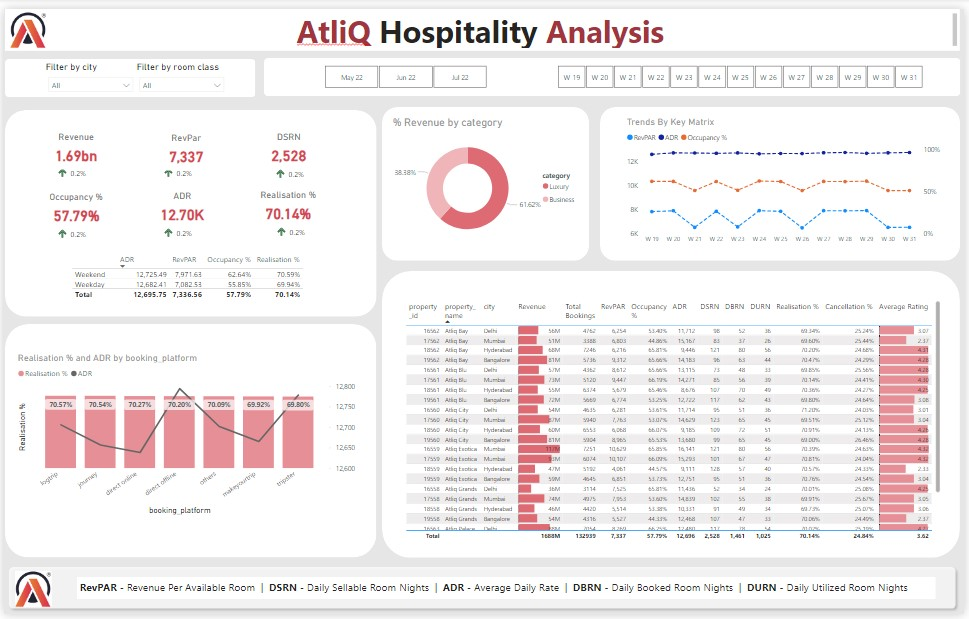

This screenshot's page, from the dashboard's own definition file:
{"tool":"powerbi","page":{"name":"Page 1","canvas":[1745,1100],"ordinal":0},"visuals":[{"type":"textbox","box":[1.8,0,1736.4,76.4],"z":0},{"type":"shape","box":[1084.4,178.1,654.7,279.7],"z":1000},{"type":"shape","box":[687.5,178.1,376.6,279.7],"z":2000},{"type":"shape","box":[688,476,1050.8,521.5],"z":3000},{"type":"shape","box":[1.7,572.3,675.5,424.5],"z":4000},{"type":"shape","box":[1.8,184.5,675.7,375.7],"z":5000},{"type":"shape","box":[472.6,88.3,1266.2,69.2],"z":6000},{"type":"shape","box":[1.8,91.4,455.4,69.2],"z":7000},{"type":"tableEx","fields":{"Values":["key_measures.Revenue WoW change %"]},"box":[87.6,368.7,88.6,67.1],"z":8000},{"type":"tableEx","fields":{"Values":["key_measures.Revenue WoW change %"]},"box":[484.7,365.9,85.7,67.1],"z":9000},{"type":"tableEx","fields":{"Values":["key_measures.Revenue WoW change %"]},"box":[280.4,367.3,87.1,64.3],"z":10000},{"type":"tableEx","fields":{"Values":["dim_hotels.property_id","dim_hotels.property_name","dim_hotels.city","key_measures.Revenue","key_measures.Total Bookings","key_measures.RevPAR","key_measures.Occupancy %","key_measures.ADR","key_measures.DSRN","key_measures.DBRN","key_measures.DURN","key_measures.Realisation %"]},"box":[724.9,525.2,981.5,444.6],"z":11000},{"type":"slicer","title":"Filter by city","fields":{"Values":["dim_hotels.city"]},"box":[70.4,93.7,174.3,64.3],"z":12000},{"type":"slicer","title":"Filter by room class","fields":{"Values":["dim_rooms.room_class"]},"box":[236.1,93.7,174.3,64.3],"z":13000},{"type":"slicer","fields":{"Values":["dim_date.mmm yy"]},"box":[558.8,96,343.1,53.8],"z":14000},{"type":"slicer","fields":{"Values":["dim_date.week no"]},"box":[981.8,96,712.3,53.8],"z":15000},{"type":"tableEx","fields":{"Values":["key_measures.Revenue WoW change %"]},"box":[87.6,258.4,87.8,65.6],"z":16000},{"type":"donutChart","title":"% Revenue by category","fields":{"Category":["dim_hotels.category"],"Y":["key_measures.Revenue"]},"box":[701.6,195.3,350,240.6],"z":17000},{"type":"card","title":"Revenue","fields":{"Values":["key_measures.Revenue"]},"box":[53.2,221.7,156.7,70],"z":18000},{"type":"tableEx","fields":{"Values":["key_measures.Revenue WoW change %"]},"box":[280.4,258.7,87.1,65.7],"z":19000},{"type":"tableEx","fields":{"Values":["key_measures.Revenue WoW change %"]},"box":[483.3,260.2,87.1,65.7],"z":20000},{"type":"card","title":"RevPar","fields":{"Values":["key_measures.RevPAR"]},"box":[253.3,223,157.1,70],"z":21000},{"type":"card","title":"DSRN","fields":{"Values":["key_measures.DSRN"]},"box":[440.4,221.6,155.7,70],"z":22000},{"type":"lineChart","title":"Trends By Key Matrix","fields":{"Category":["dim_date.mmm yy.Variation.Date Hierarchy.Month","dim_date.week no"],"Y":["key_measures.RevPAR","key_measures.ADR"],"Y2":["key_measures.Occupancy %"]},"box":[1126.6,195.3,579.7,242.2],"z":23000},{"type":"lineStackedColumnComboChart","fields":{"Category":["fact_bookings.booking_platform"],"Y":["key_measures.Realisation %"],"Y2":["key_measures.ADR"]},"box":[20.4,624.5,622.9,301.4],"z":24000},{"type":"tableEx","fields":{"Values":["dim_date.day type","key_measures.ADR","key_measures.RevPAR","key_measures.Occupancy %","key_measures.Realisation %"]},"box":[117.6,441.6,438.6,107.1],"z":25000},{"type":"card","title":"Occupancy %","fields":{"Values":["key_measures.Occupancy %"]},"box":[53.3,330.2,157.1,70],"z":26000},{"type":"card","title":"Realisation %","fields":{"Values":["key_measures.Realisation %"]},"box":[437.6,327.3,157.1,70],"z":27000},{"type":"card","title":"ADR","fields":{"Values":["key_measures.ADR"]},"box":[244.7,328.7,157.1,70],"z":28000},{"type":"shape","box":[0,1006.2,1739.1,93.8],"z":29000},{"type":"image","box":[1.7,0,85.9,75.6],"z":30000},{"type":"image","box":[10.3,1015.8,85.9,75.6],"z":31000},{"type":"textbox","box":[132.3,1033,1560.6,39.5],"z":31001}]}

Visuals, with their boxes in screenshot pixels (x1, y1, x2, y2), scaled from the page's 1745x1100 canvas onto the 969x619 screenshot:
textbox: bbox=[1, 0, 965, 43]
shape: bbox=[602, 100, 966, 258]
shape: bbox=[382, 100, 591, 258]
shape: bbox=[382, 268, 966, 561]
shape: bbox=[1, 322, 376, 561]
shape: bbox=[1, 104, 376, 315]
shape: bbox=[262, 50, 966, 89]
shape: bbox=[1, 51, 254, 90]
tableEx - key_measures.Revenue WoW change %: bbox=[49, 207, 98, 245]
tableEx - key_measures.Revenue WoW change %: bbox=[269, 206, 317, 244]
tableEx - key_measures.Revenue WoW change %: bbox=[156, 207, 204, 243]
tableEx - dim_hotels.property_id x dim_hotels.property_name: bbox=[403, 296, 948, 546]
"Filter by city" slicer: bbox=[39, 53, 136, 89]
"Filter by room class" slicer: bbox=[131, 53, 228, 89]
slicer - dim_date.mmm yy: bbox=[310, 54, 501, 84]
slicer - dim_date.week no: bbox=[545, 54, 941, 84]
tableEx - key_measures.Revenue WoW change %: bbox=[49, 145, 97, 182]
"% Revenue by category" donutChart: bbox=[390, 110, 584, 245]
"Revenue" card: bbox=[30, 125, 117, 164]
tableEx - key_measures.Revenue WoW change %: bbox=[156, 146, 204, 183]
tableEx - key_measures.Revenue WoW change %: bbox=[268, 146, 317, 183]
"RevPar" card: bbox=[141, 125, 228, 165]
"DSRN" card: bbox=[245, 125, 331, 164]
"Trends By Key Matrix" lineChart: bbox=[626, 110, 948, 246]
lineStackedColumnComboChart - fact_bookings.booking_platform x key_measures.Realisation %: bbox=[11, 351, 357, 521]
tableEx - dim_date.day type x key_measures.ADR: bbox=[65, 249, 309, 309]
"Occupancy %" card: bbox=[30, 186, 117, 225]
"Realisation %" card: bbox=[243, 184, 330, 224]
"ADR" card: bbox=[136, 185, 223, 224]
shape: bbox=[0, 566, 966, 618]
image: bbox=[1, 0, 49, 43]
image: bbox=[6, 572, 53, 614]
textbox: bbox=[73, 581, 940, 604]
